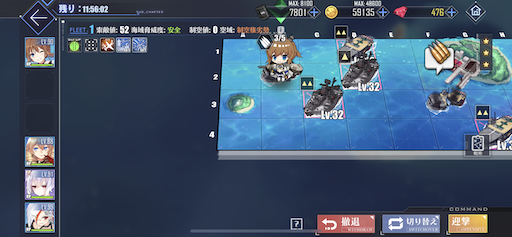lv1: (338, 50, 380, 90)
lv2: (475, 105, 512, 149), (301, 77, 343, 115), (335, 25, 376, 53)
